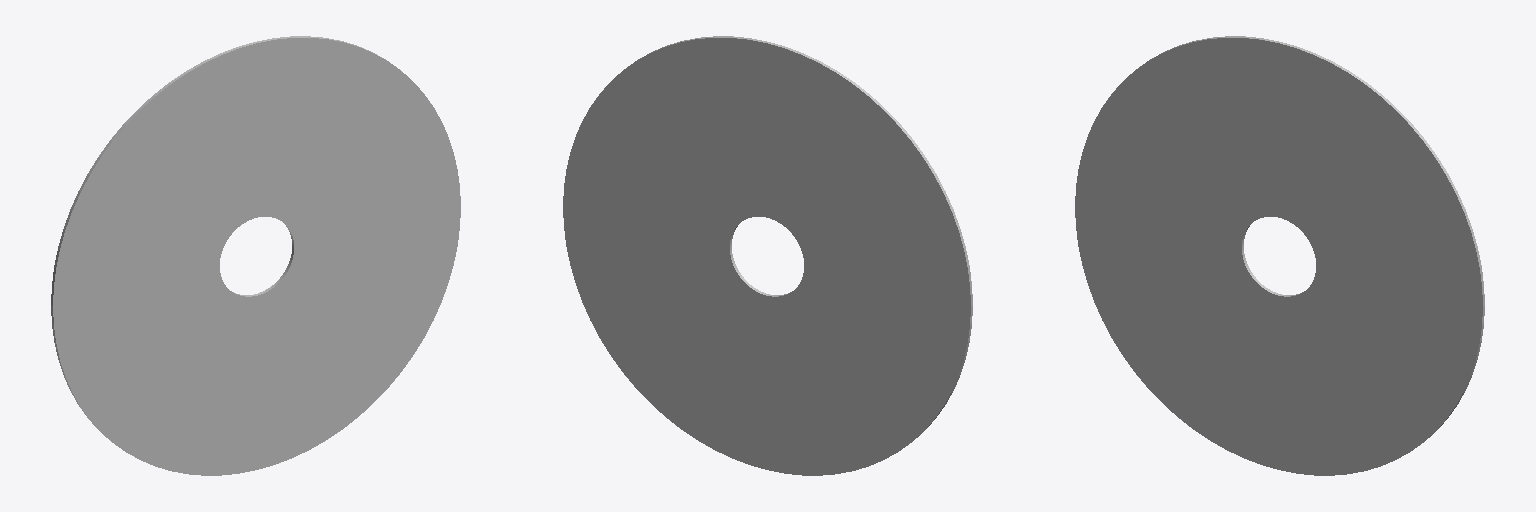
Rendered from HGTD_NegativeEndcap_passives_l1.obj.
3 views of the same model, side by side, from view 1: azimuth 30°, elevation 25°; view 2: azimuth 150°, elevation 25°; view 3: azimuth 330°, elevation 25° (orthographic).
Bounding box in the file's own units: 1325 × 1325 × 11.24.